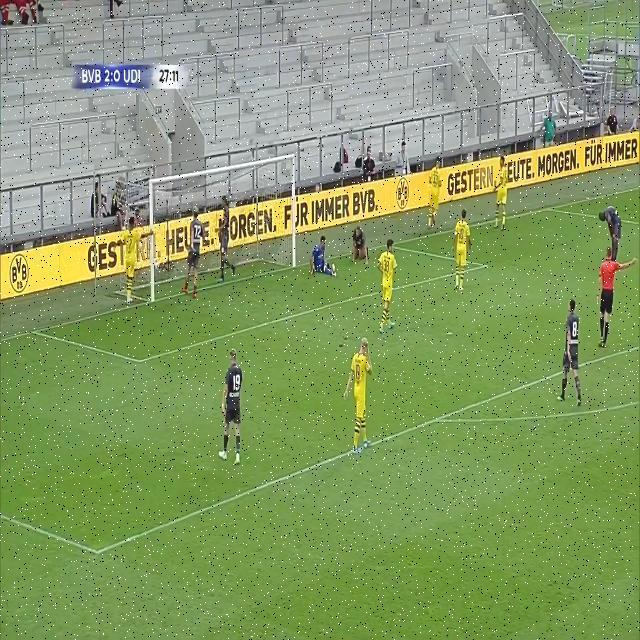goalkeeper: (305, 229, 337, 279)
player: (343, 331, 375, 457), (213, 346, 245, 468), (558, 299, 583, 409), (212, 194, 240, 283), (376, 232, 397, 340), (118, 213, 141, 307), (184, 205, 204, 299), (598, 207, 624, 267), (455, 204, 471, 294), (430, 151, 444, 232), (495, 150, 507, 234), (351, 222, 369, 264)
referee: (588, 244, 625, 348)
